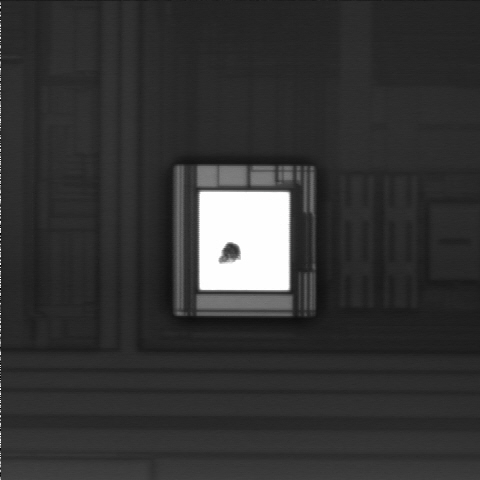pad: (199, 192, 289, 290)
